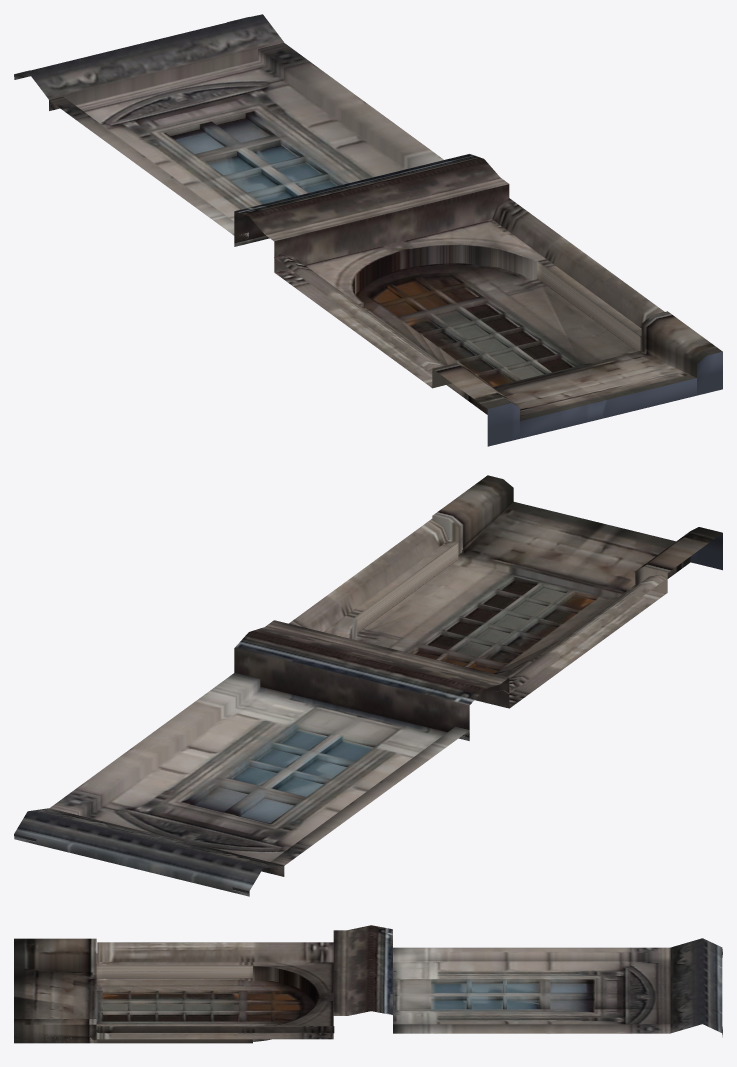
The model's file is FacadeTest.fbx.
3 views of the same model, one above another, from view 1: azimuth 30°, elevation 25°; view 2: azimuth 150°, elevation 25°; view 3: azimuth 270°, elevation 25° (orthographic). The views are drawn at different scales.
Visible parts, largest first — view 1: Facade2.005; view 2: Facade2.005; view 3: Facade2.005.
Boxes of the visible parts, bbox=[...] form: Facade2.005: bbox=[14, 14, 722, 446]; Facade2.005: bbox=[14, 475, 722, 896]; Facade2.005: bbox=[14, 925, 722, 1043].
Size of the model in its own units: 20.06 by 4.84 by 69.92.
